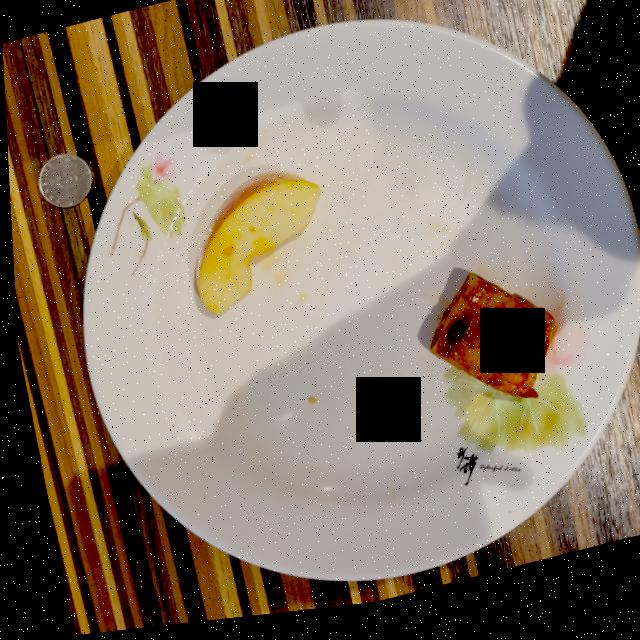apple -sliced-: (192, 177, 318, 318)
coin: (36, 154, 92, 208)
creamy tofu: (426, 282, 551, 409)
